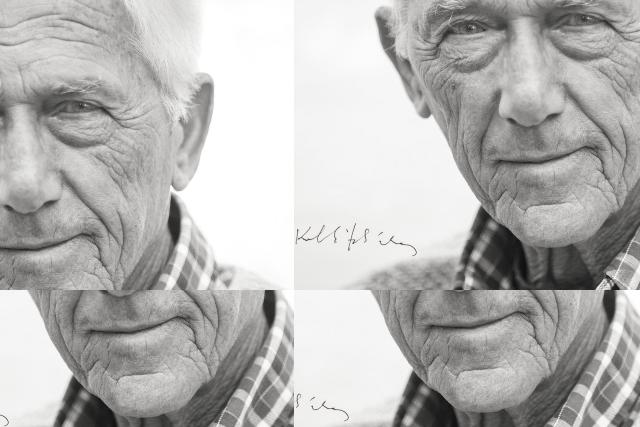chin: (456, 359, 500, 379), (426, 348, 446, 370)
crows_feet: (314, 40, 330, 60), (427, 21, 441, 41)
forehead: (371, 0, 392, 13), (316, 0, 339, 11), (393, 0, 420, 7), (344, 0, 365, 7)
gummy_smile: (408, 290, 425, 328), (404, 67, 424, 93), (347, 75, 361, 99)
masseter: (394, 326, 420, 362), (550, 290, 564, 346), (374, 290, 403, 316)
sad_smile: (520, 316, 546, 362)
